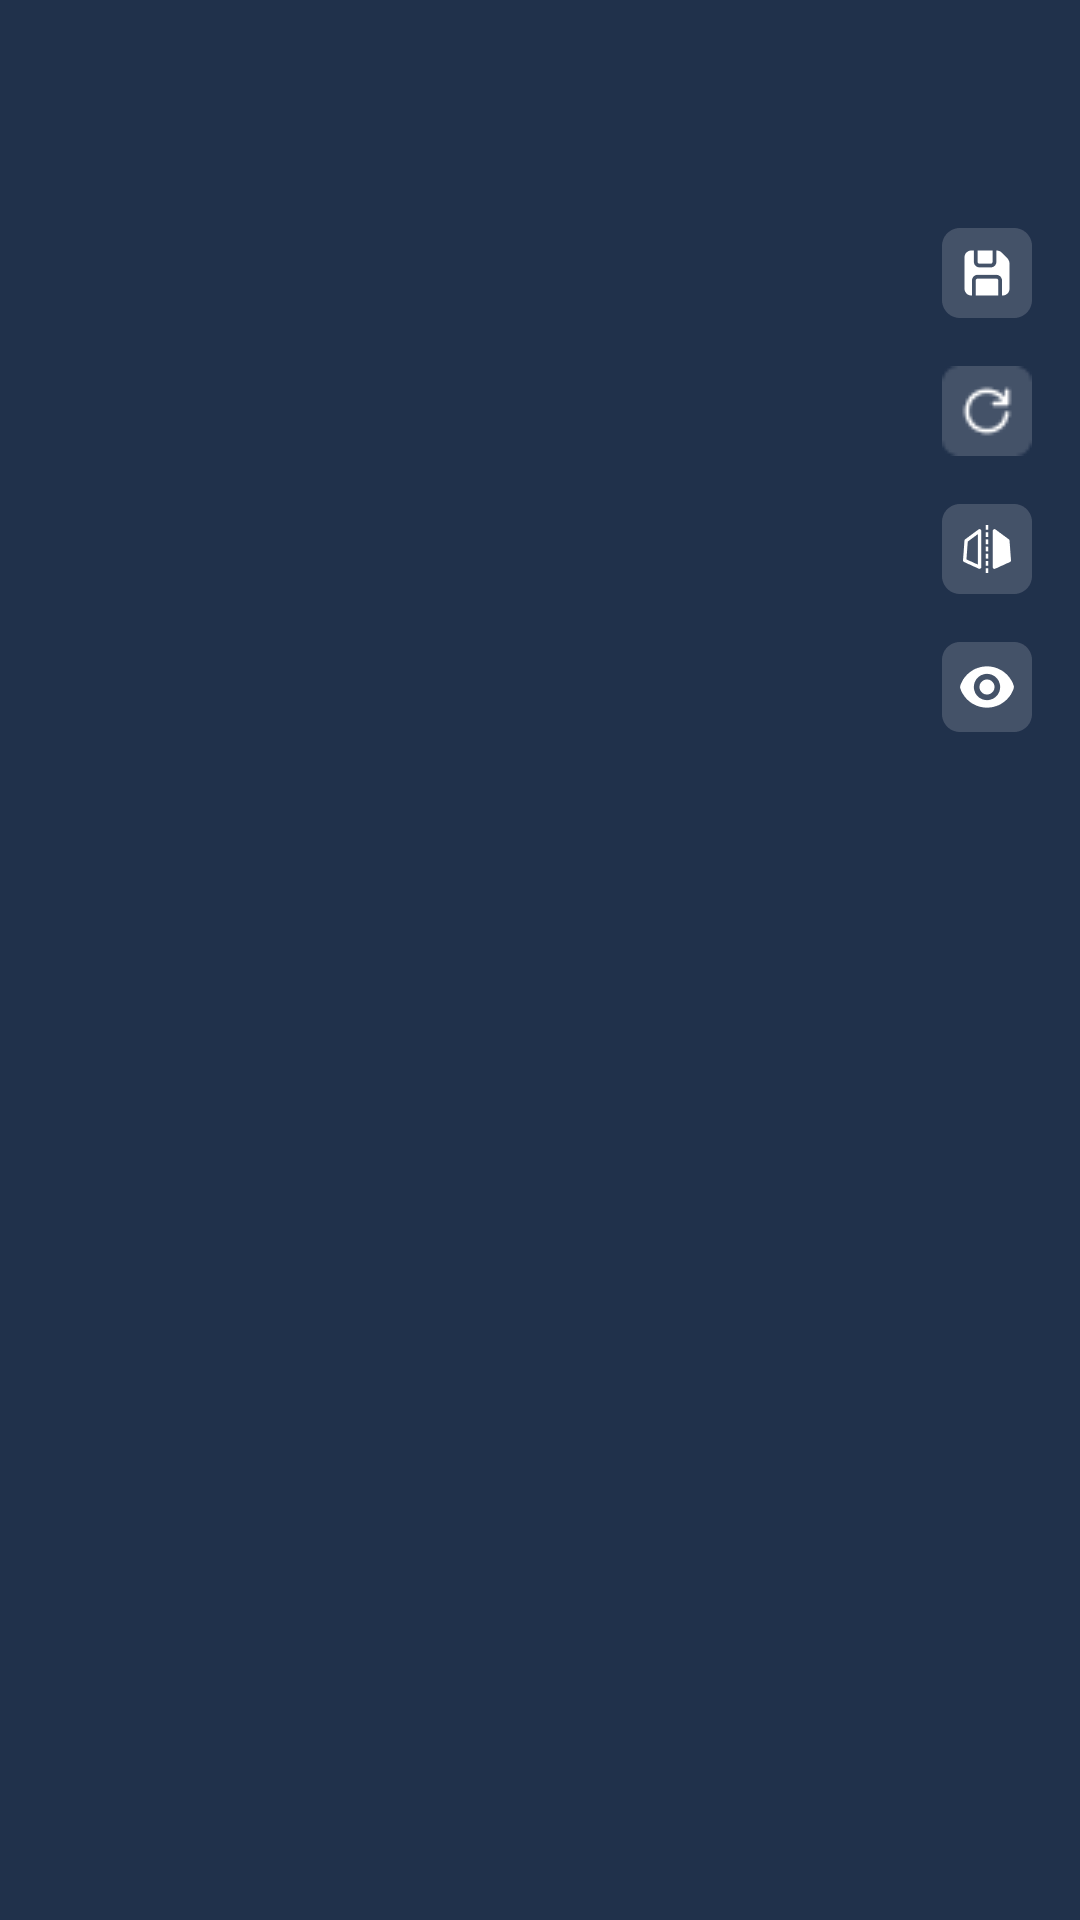

Icon bounding boxes for this 1080px×1920px phone screenshot, format bbox=(x1, y1, x2, y2):
flip: bbox=(942, 504, 1032, 594)
hiden: bbox=(942, 642, 1032, 732)
save: bbox=(942, 228, 1032, 318)
turn: bbox=(942, 366, 1032, 456)
